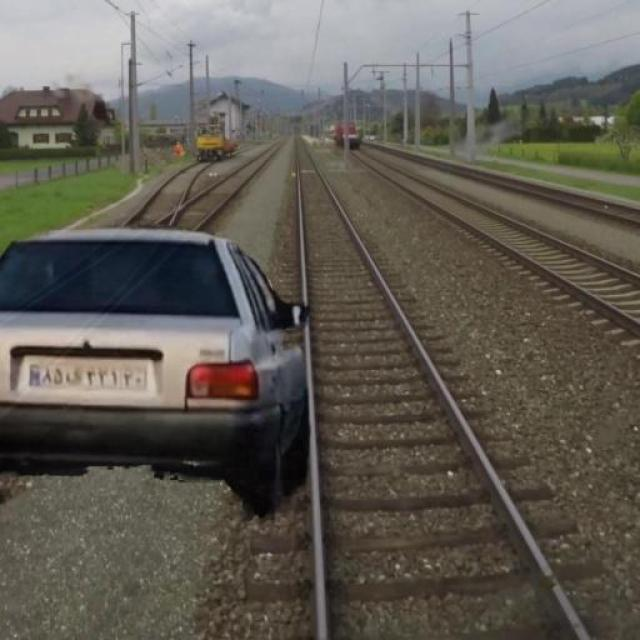vehicle: (1, 224, 316, 522)
